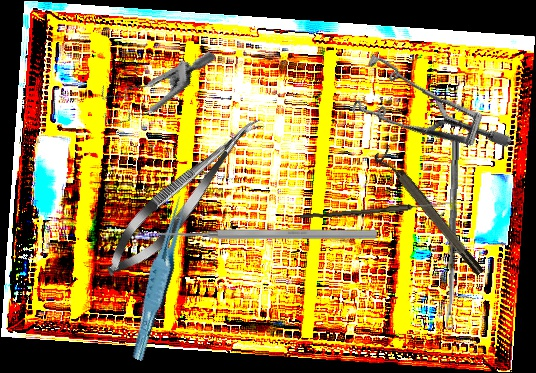Fixation Ring: (372, 144, 487, 282)
Micro Scissor: (93, 104, 274, 288)
Pusher: (155, 227, 377, 241)
Speculum: (331, 16, 514, 208), (87, 14, 217, 154)
Surgical Spoon: (300, 199, 450, 222), (444, 134, 460, 330)
Tissue Forceps: (119, 194, 202, 362)
